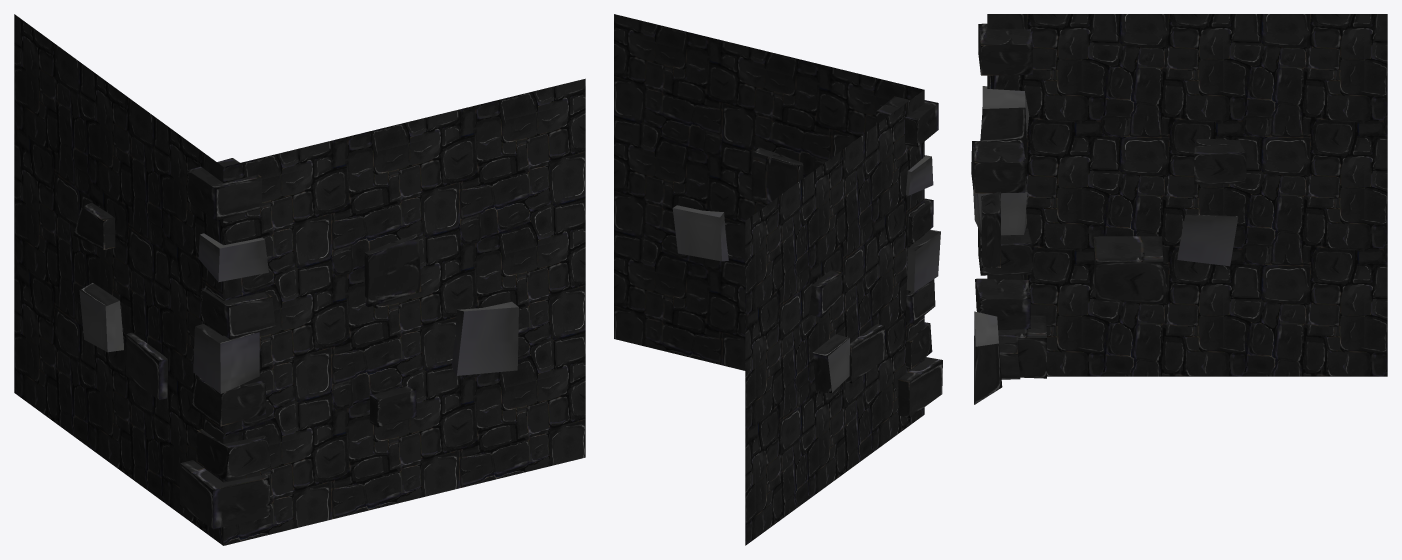
The model's file is wallasset.glb.
3 renders of one model, left to right at view 1: azimuth 30°, elevation 25°; view 2: azimuth 150°, elevation 25°; view 3: azimuth 270°, elevation 25°, orthographic. The views are drawn at different scales.
Parts seen in each view (by area): view 1: Cube; view 2: Cube; view 3: Cube.
Boxes of the visible parts, left/top/right/bottom form: Cube: left=14, top=14, right=585, bottom=545; Cube: left=614, top=14, right=942, bottom=545; Cube: left=971, top=14, right=1387, bottom=404.
Bounding box in the file's own units: 11.91 × 11.41 × 11.87.
1 material, 1 textured.
